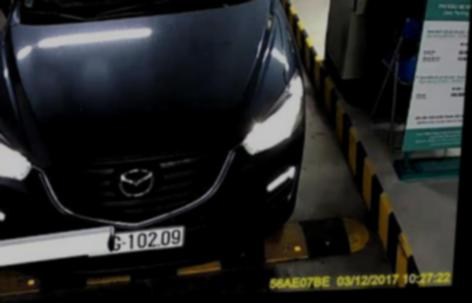License_Plate: (82, 224, 186, 253)
